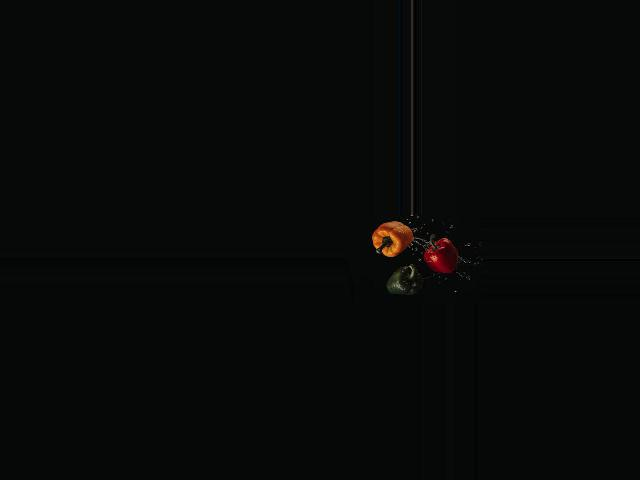bell_pepper: (417, 228, 459, 280)
